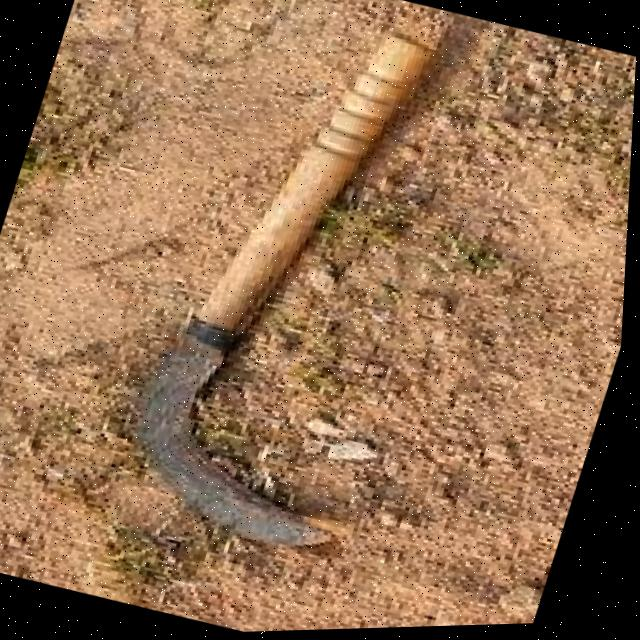sickle: (55, 0, 515, 623)
